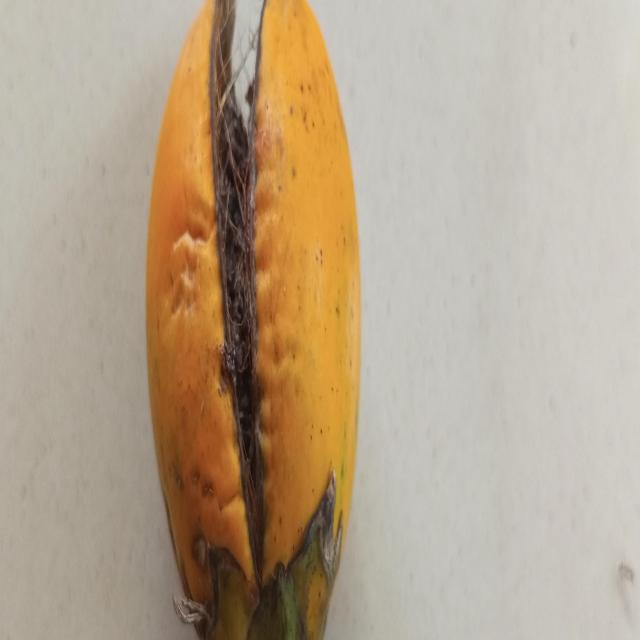damaged: (144, 0, 363, 640)
